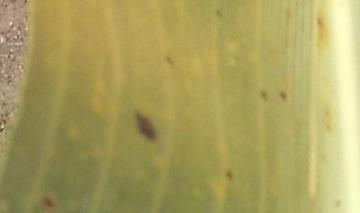tarspot: (136, 111, 158, 140), (44, 197, 54, 209), (225, 169, 235, 180), (316, 16, 325, 28), (261, 89, 269, 102), (279, 90, 287, 101), (216, 8, 224, 18), (167, 56, 174, 66)
